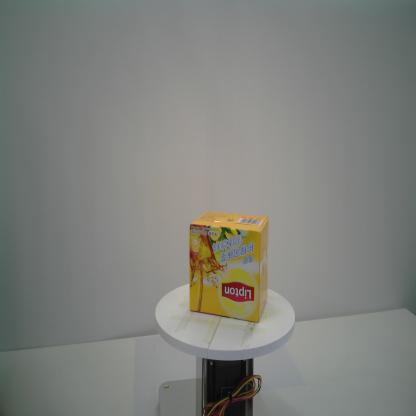Instant Drink: (187, 209, 270, 324)
